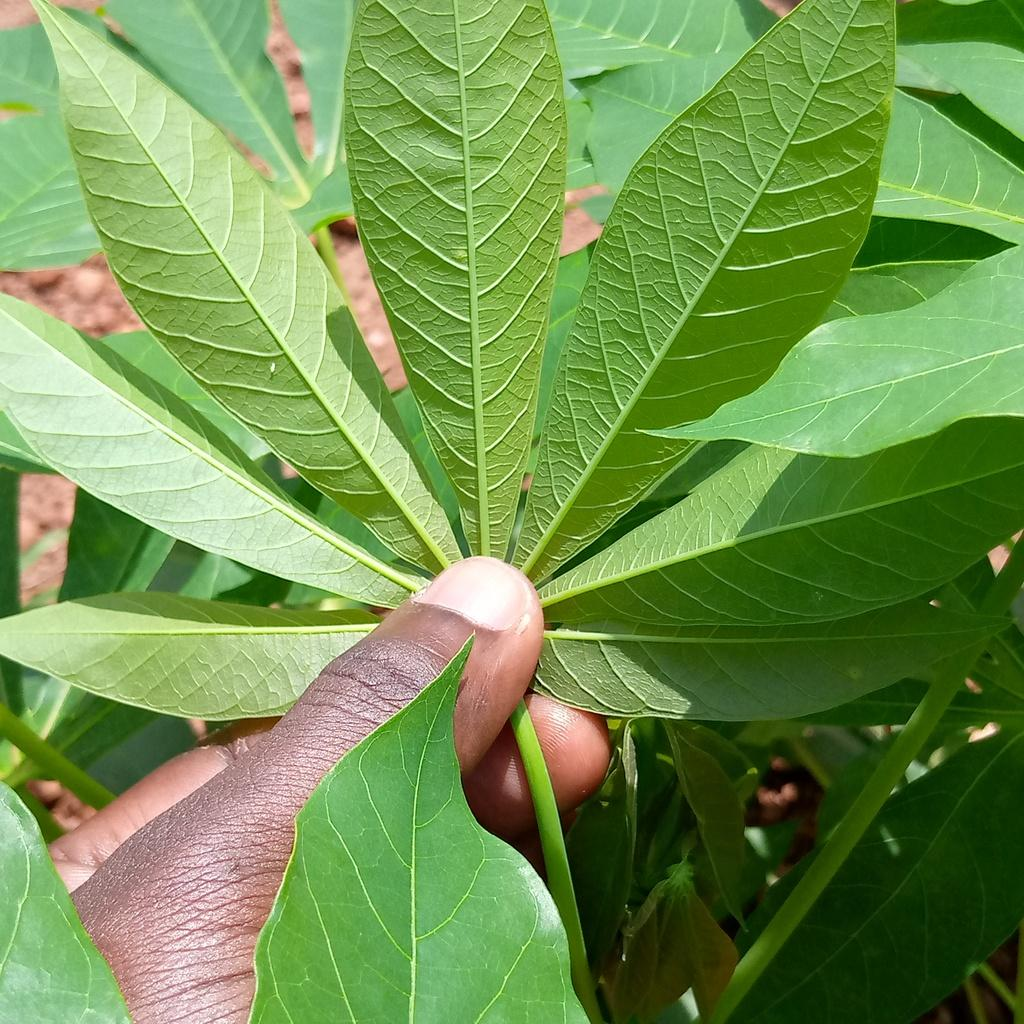adult: (270, 363, 275, 373)
